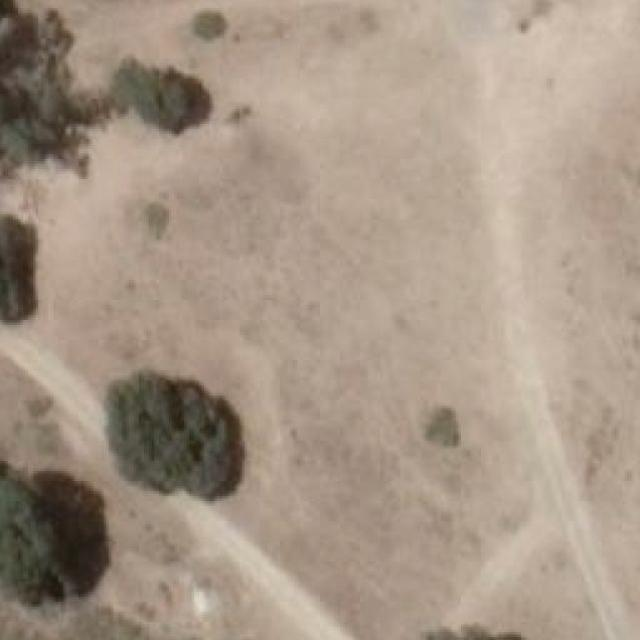Tree: (0, 0, 119, 189), (0, 461, 107, 602), (119, 380, 229, 504), (121, 63, 206, 127), (0, 217, 38, 311), (189, 6, 230, 41), (428, 408, 463, 446), (146, 205, 174, 232)
